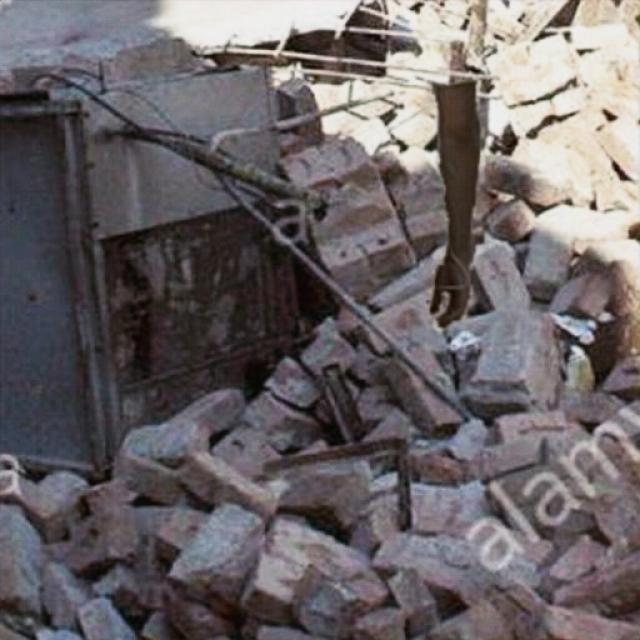Person in Rubble: (427, 78, 482, 326)
